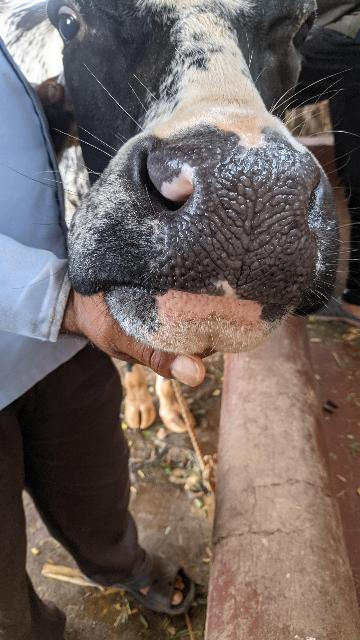Muzzle: (136, 142, 320, 292)
